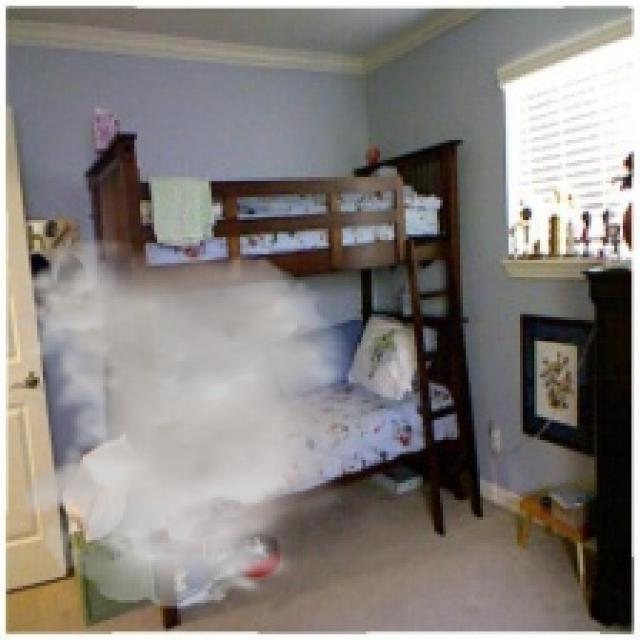Smoke: (9, 237, 398, 609)
